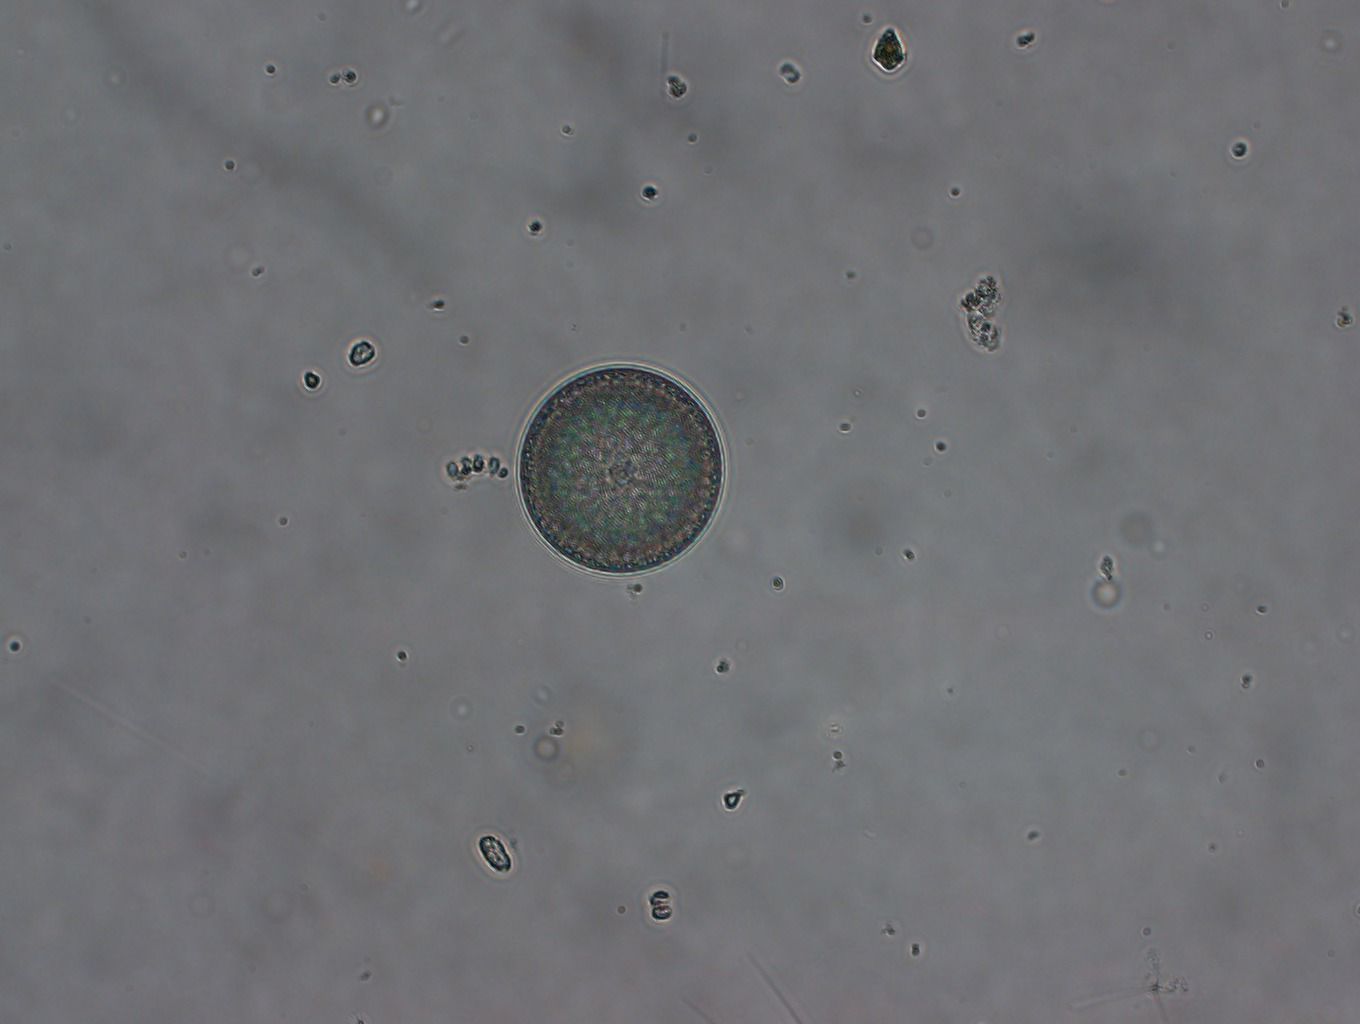chaetoceros: (510, 355, 729, 580)
